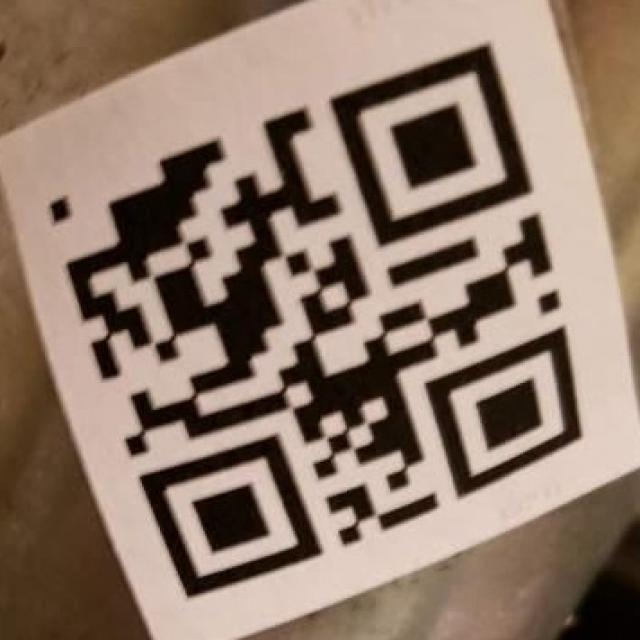QR_CODE: (49, 42, 584, 600)
